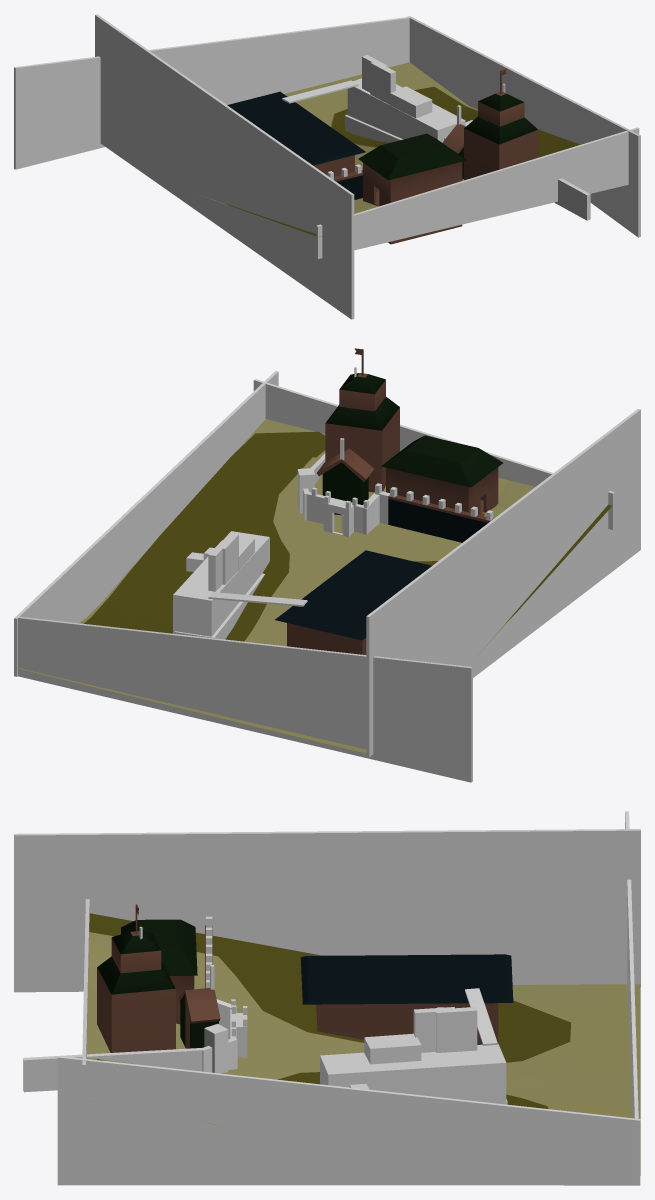
Rendered from week1-assignment.fbx.
3 views of the same model, one above another, from view 1: azimuth 30°, elevation 25°; view 2: azimuth 150°, elevation 25°; view 3: azimuth 270°, elevation 25° (orthographic). The views are drawn at different scales.
Visible parts, largest first — view 1: pCube21, pCube24, pCube22, pCube23, pCube9, pCube8, pPlane1, pCube2, pCube7, pCube6, pCube18, pCube19 (+4 smaller); view 2: pCube24, pCube21, pPlane1, pCube23, pCube8, pCube9, pCube2, pCube7, pCube22, pCube14, pCube4, pCube5 (+4 smaller); view 3: pCube21, pCube23, pPlane1, pCube8, pCube2, pCube7, pCube6, pCube9, pCube4, pCube20, pCube24, pCube18 (+6 smaller).
Boxes of the visible parts, box(x1,y1,x2,y2) form: pCube21: box(95, 14, 354, 319); pCube24: box(14, 17, 409, 169); pCube22: box(316, 127, 639, 258); pCube23: box(407, 16, 640, 237); pCube9: box(358, 133, 466, 244); pCube8: box(227, 91, 365, 176); pPlane1: box(200, 62, 580, 236); pCube2: box(464, 68, 538, 180); pCube7: box(347, 78, 465, 142); pCube6: box(554, 178, 590, 220); pCube18: box(389, 86, 432, 118); pCube19: box(370, 61, 395, 104); pCube24: box(16, 616, 472, 782); pCube21: box(366, 409, 640, 757); pPlane1: box(14, 419, 612, 753); pCube23: box(14, 371, 278, 676); pCube8: box(275, 550, 431, 654); pCube9: box(381, 435, 503, 515); pCube2: box(325, 348, 399, 492); pCube7: box(173, 531, 269, 636); pCube22: box(253, 379, 614, 529); pCube14: box(388, 495, 493, 542); pCube4: box(317, 448, 373, 514); pCube5: box(305, 492, 369, 536); pCube21: box(14, 829, 640, 992); pCube23: box(57, 1056, 640, 1185); pPlane1: box(85, 912, 640, 1175); pCube8: box(300, 954, 513, 1044); pCube2: box(97, 904, 175, 1052); pCube7: box(320, 1044, 506, 1104); pCube6: box(23, 1048, 203, 1092); pCube9: box(121, 919, 197, 1024); pCube4: box(179, 988, 220, 1048); pCube20: box(435, 1007, 477, 1052); pCube24: box(625, 811, 638, 1185); pCube18: box(364, 1033, 421, 1064).
Size of the model in its own units: 57.01 by 26.18 by 60.17.
